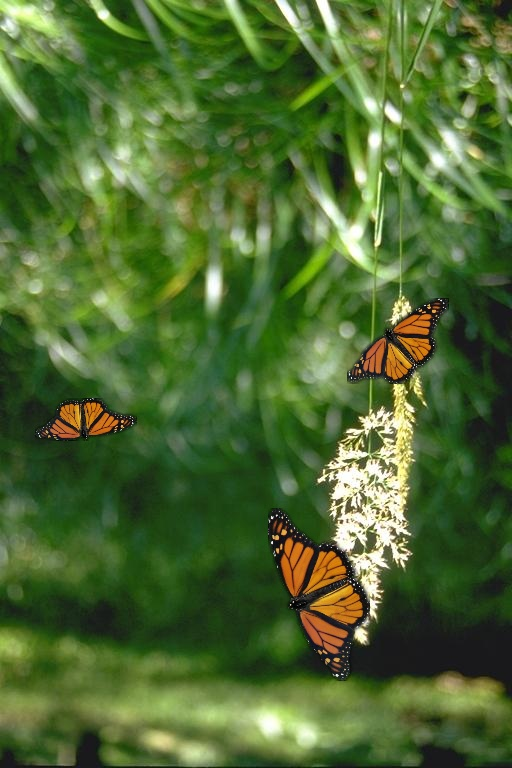danaus_plexippus: (268, 508, 370, 681), (347, 298, 449, 384), (35, 398, 137, 441)
